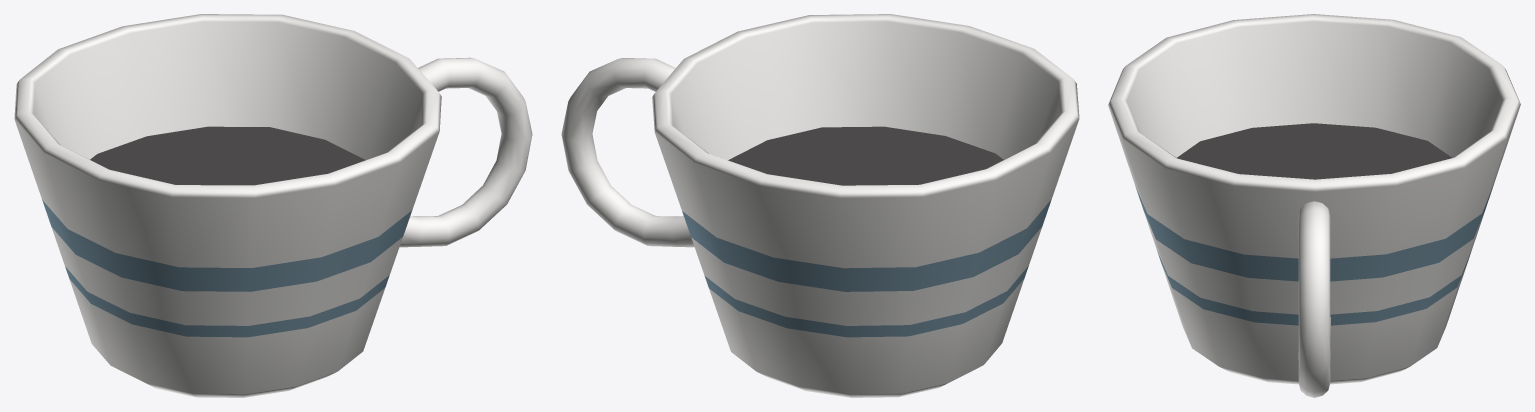
File: Cup_5.glb
3 renders of one model, left to right at view 1: azimuth 30°, elevation 25°; view 2: azimuth 150°, elevation 25°; view 3: azimuth 270°, elevation 25°, orthographic. The views are drawn at different scales.
Visible parts, largest first — view 1: Cup_5; view 2: Cup_5; view 3: Cup_5.
Part boxes in pixels (x1,y1,x2,y2): Cup_5: [14, 14, 532, 397]; Cup_5: [561, 14, 1079, 397]; Cup_5: [1108, 14, 1520, 397].
Bounding box in the file's own units: 0.1732 × 0.0837 × 0.1313.
Materials: 1 (1 with a texture image).
